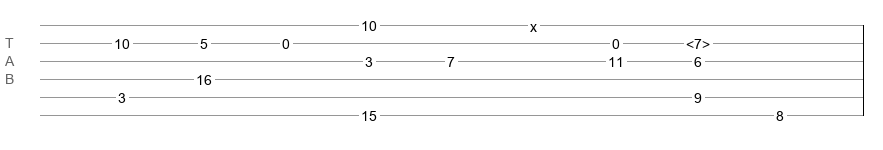0: (282, 36, 290, 46), (612, 36, 620, 46)
10: (114, 36, 130, 46), (361, 18, 377, 28)
11: (608, 54, 624, 64)
15: (361, 108, 377, 118)
16: (196, 72, 212, 82)
3: (118, 90, 126, 100), (365, 54, 373, 64)
5: (200, 36, 208, 46)
6: (694, 54, 702, 64)
7: (447, 54, 455, 64)
8: (776, 108, 784, 118)
9: (694, 90, 702, 100)
harmonic: (686, 36, 710, 46)
x: (530, 19, 537, 27)
